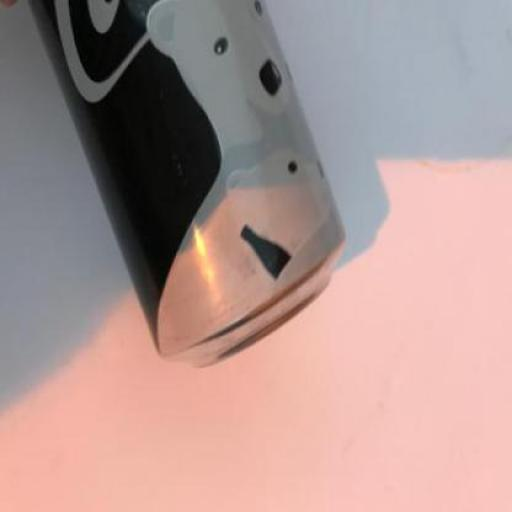metal: (30, 2, 347, 370)
